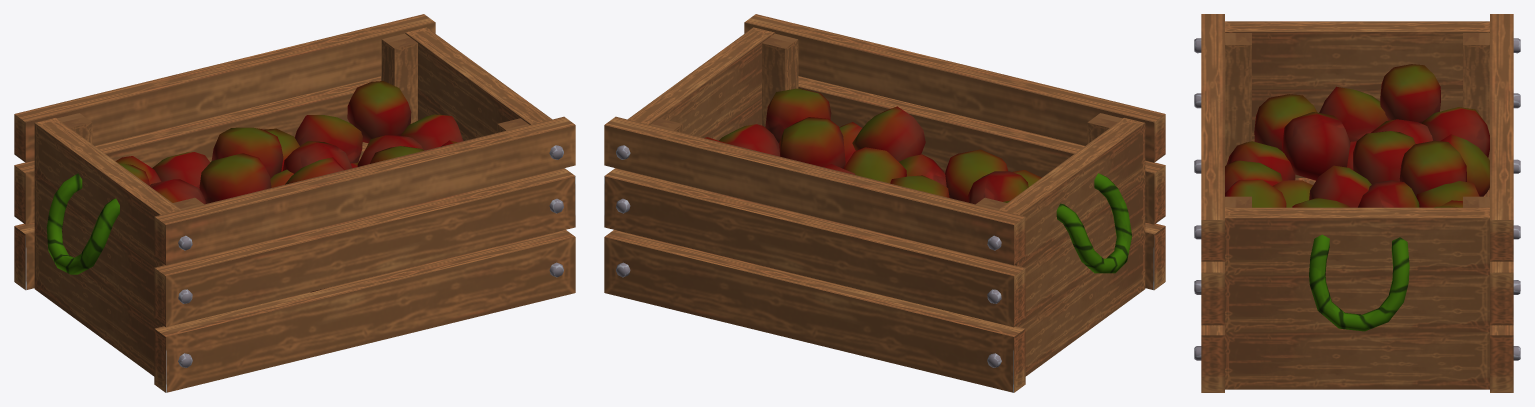
Rendered from FarmCrate_Apple.gltf.
3 views of the same model, side by side, from view 1: azimuth 30°, elevation 25°; view 2: azimuth 150°, elevation 25°; view 3: azimuth 270°, elevation 25° (orthographic). The views are drawn at different scales.
Parts seen in each view (by area): view 1: FarmCrate_Apple; view 2: FarmCrate_Apple; view 3: FarmCrate_Apple.
Part boxes in pixels (x1,y1,x2,y2): FarmCrate_Apple: (14, 14, 575, 392); FarmCrate_Apple: (604, 14, 1165, 392); FarmCrate_Apple: (1194, 14, 1520, 392).
Size of the model in its own units: 0.7138 by 0.2438 by 0.4142.
Materials: 3 (3 with a texture image).
